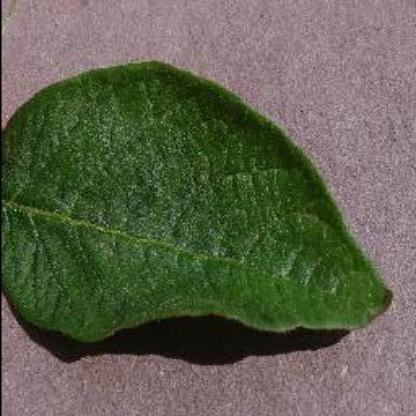Healthy-plant: (0, 35, 388, 391)
